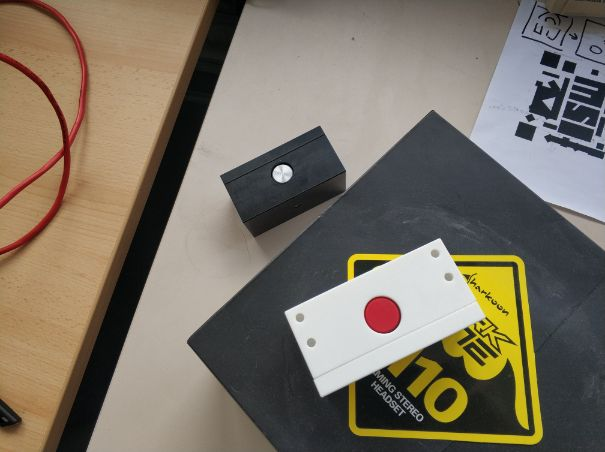black+black+silver: (216, 124, 353, 239)
white+white+red: (282, 234, 488, 402)
